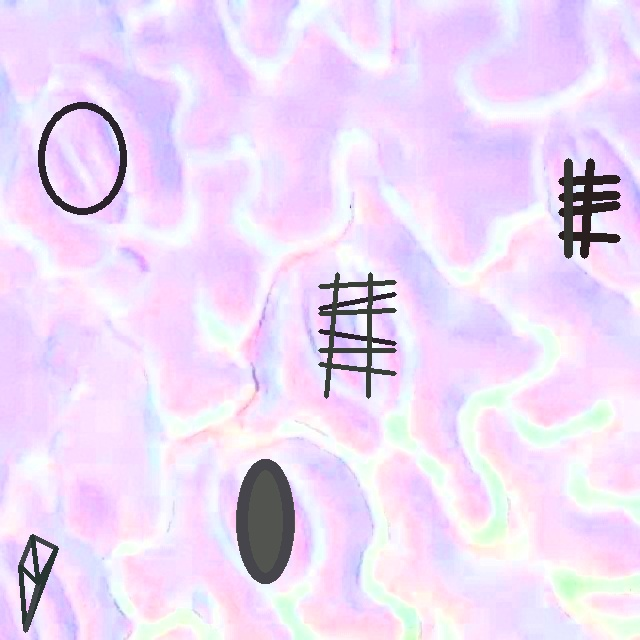close: (38, 102, 126, 213)
open: (318, 272, 396, 398), (236, 460, 294, 582), (559, 158, 619, 258), (18, 534, 57, 632)
